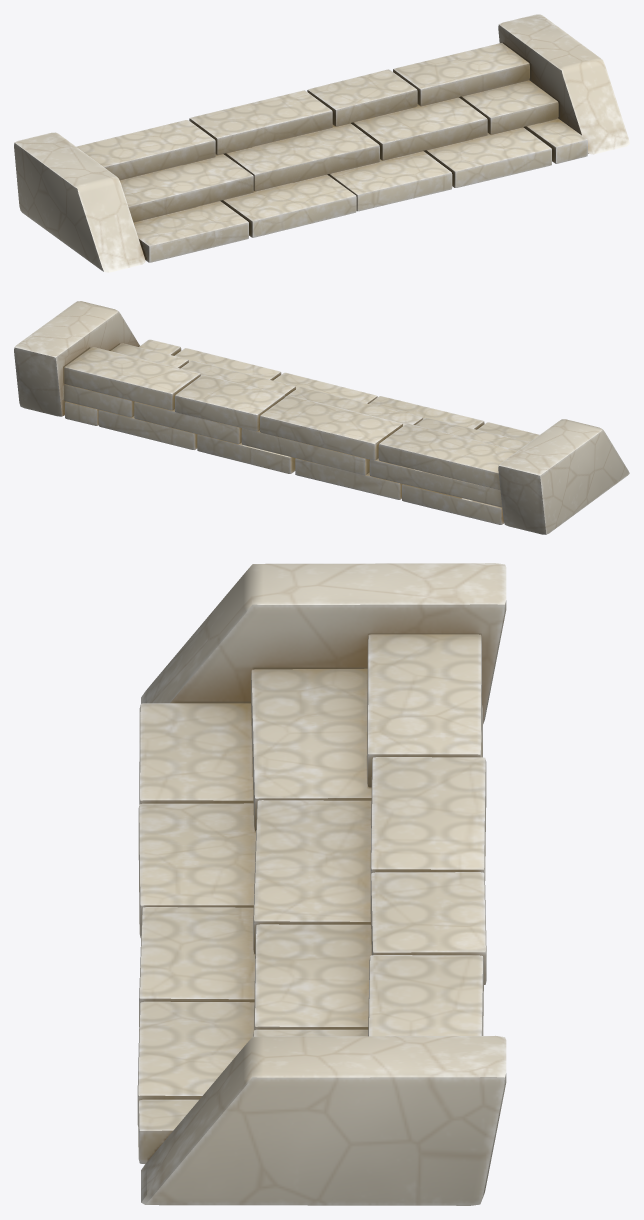
File: Divin_Escalier.fbx
3 views of the same model, one above another, from view 1: azimuth 30°, elevation 25°; view 2: azimuth 150°, elevation 25°; view 3: azimuth 270°, elevation 25° (orthographic). The views are drawn at different scales.
Visible parts, largest first — view 1: Divin_Escalier; view 2: Divin_Escalier; view 3: Divin_Escalier.
Boxes of the visible parts, x1,y1,x2,y2 form: Divin_Escalier: (14,14,629,272); Divin_Escalier: (14,301,629,534); Divin_Escalier: (137,563,506,1205).
Bounding box in the file's own units: 1920 × 230 × 580.
Materials: 1 (1 with a texture image).
